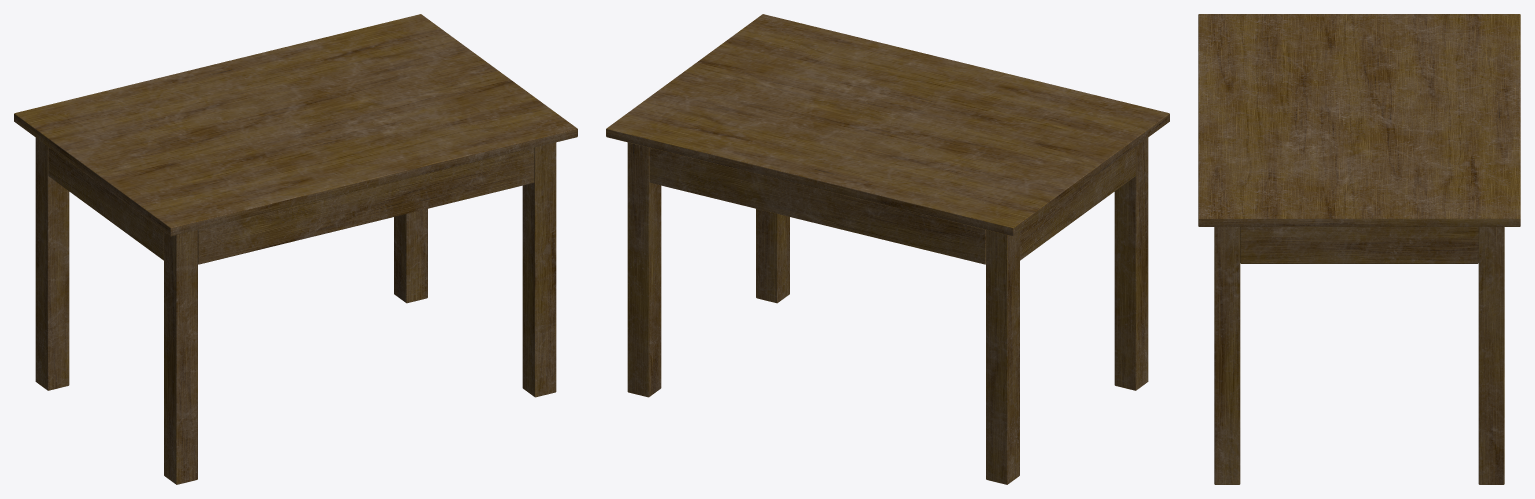
The model's file is Table.fbx.
The picture shows the model from 3 angles, left to right: view 1: azimuth 30°, elevation 25°; view 2: azimuth 150°, elevation 25°; view 3: azimuth 270°, elevation 25°; orthographic projection. The views are drawn at different scales.
Parts seen in each view (by area): view 1: Table; view 2: Table; view 3: Table.
Boxes of the visible parts, <box> form: Table: <box>14,14,577,484</box>; Table: <box>606,14,1169,484</box>; Table: <box>1198,14,1520,484</box>.
Size of the model in its own units: 120 by 75 by 80.
